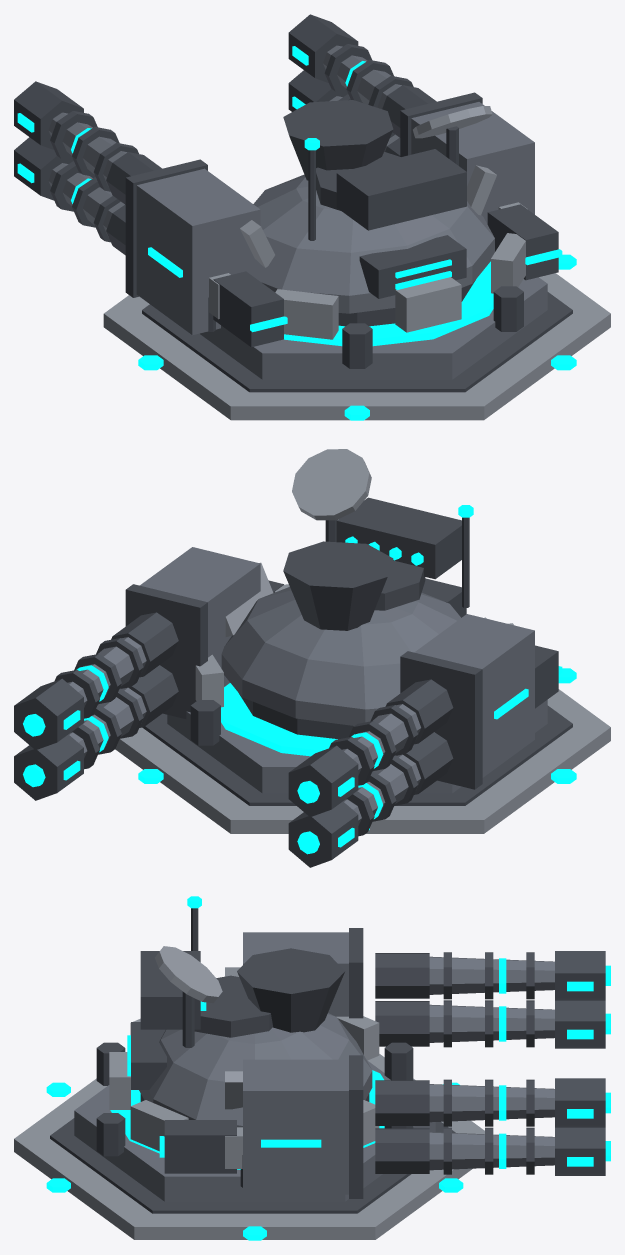
Rendered from turret_lvl7.glb.
The picture shows the model from 3 angles, top to bottom: view 1: azimuth 30°, elevation 25°; view 2: azimuth 150°, elevation 25°; view 3: azimuth 270°, elevation 25°; orthographic projection. The views are drawn at different scales.
Parts seen in each view (by area): view 1: BaseTier_73, Dome_05, PodBody_07, Base_01, MissileRack_90, BaseSkirt_02, PodBody_30, CentreSensor_53, SaddleBag_68, BackVent_55, Neon_BaseRing_03, SkirtPlate_88 (+30 smaller); view 2: Dome_05, BaseTier_73, PodBody_07, CentreSensor_53, MissileRack_90, PodPlate_08, PodBody_30, BaseSkirt_02, PodPlate_31, Base_01, RadarDish_81, MuzzleBrake_26 (+30 smaller); view 3: BaseTier_73, PodBody_30, Dome_05, Base_01, CentreSensor_53, BaseSkirt_02, SaddleBag_70, BarrelTube_34, BarrelTube_21, BarrelTube_44, BarrelTube_11, PodBody_07 (+26 smaller).
Part boxes in pixels (left/top/right/bottom): BaseTier_73: left=103, top=273, right=610, bottom=420; Dome_05: left=246, top=174, right=494, bottom=313; PodBody_07: left=136, top=168, right=260, bottom=335; Base_01: left=200, top=277, right=547, bottom=379; MissileRack_90: left=336, top=149, right=466, bottom=230; BaseSkirt_02: left=142, top=292, right=572, bottom=392; PodBody_30: left=411, top=102, right=534, bottom=224; CentreSensor_53: left=283, top=100, right=393, bottom=180; SaddleBag_68: left=213, top=271, right=283, bottom=347; BackVent_55: left=359, top=235, right=466, bottom=298; Neon_BaseRing_03: left=284, top=261, right=493, bottom=346; SkirtPlate_88: left=395, top=277, right=461, bottom=332; Dome_05: left=221, top=587, right=460, bottom=725; BaseTier_73: left=115, top=689, right=610, bottom=833; PodBody_07: left=414, top=614, right=534, bottom=777; CentreSensor_53: left=283, top=541, right=393, bottom=630; MissileRack_90: left=336, top=497, right=461, bottom=579; PodPlate_08: left=400, top=651, right=482, bottom=789; PodBody_30: left=140, top=547, right=260, bottom=686; BaseSkirt_02: left=142, top=705, right=572, bottom=805; PodPlate_31: left=125, top=584, right=207, bottom=718; Base_01: left=167, top=700, right=547, bottom=793; RadarDish_81: left=292, top=449, right=371, bottom=520; MuzzleBrake_26: left=288, top=745, right=358, bottom=816; BaseTier_73: left=14, top=1054, right=484, bottom=1239; PodBody_30: left=243, top=1059, right=348, bottom=1194; Dome_05: left=139, top=1013, right=372, bottom=1127; Base_01: left=74, top=1060, right=435, bottom=1201; CentreSensor_53: left=237, top=948, right=345, bottom=1032; BaseSkirt_02: left=50, top=1118, right=455, bottom=1213; SaddleBag_70: left=164, top=1120, right=236, bottom=1173; BarrelTube_34: left=429, top=1132, right=554, bottom=1170; BarrelTube_21: left=429, top=956, right=554, bottom=994; BarrelTube_44: left=429, top=1084, right=554, bottom=1122; BarrelTube_11: left=429, top=1004, right=554, bottom=1042; PodBody_07: left=243, top=932, right=348, bottom=1016.
Size of the model in its own units: 5.9 by 3.14 by 7.43.
